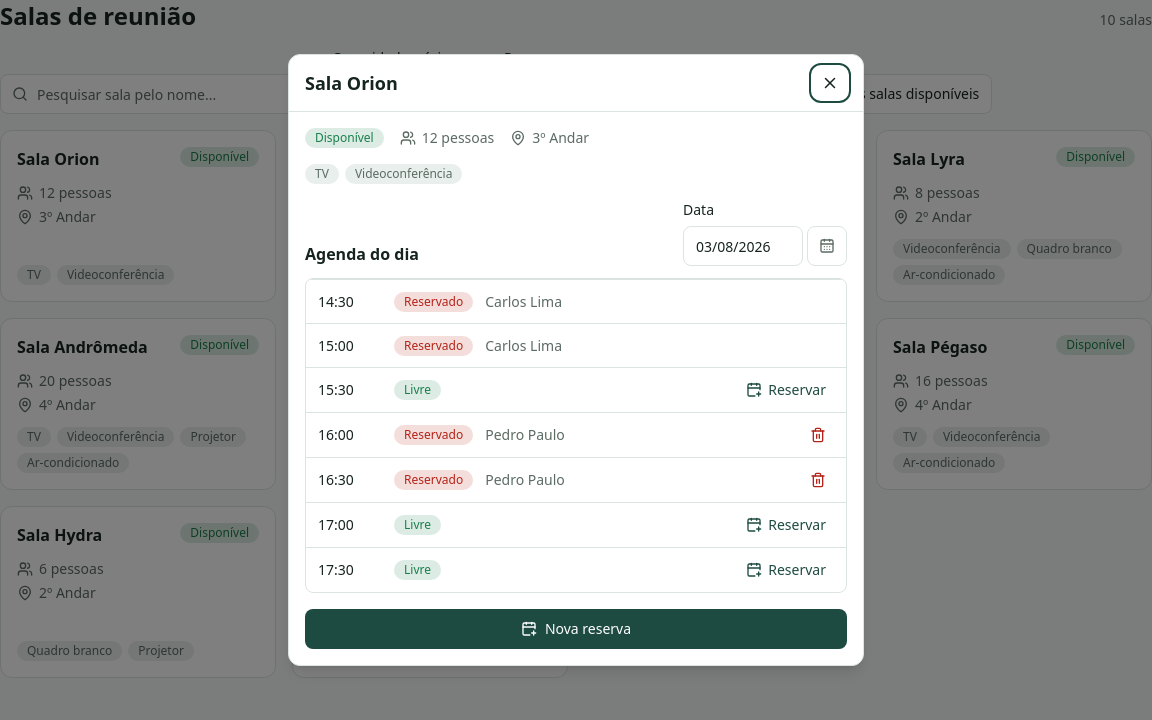
Test: RoomDetails › cancels an owned reservation after confirmation
(page scrolled)
Expected: the text "16:00" is shown, [318, 425, 354, 444]
Click the button named "Cancelar reserva" in the row of "16:00" at {"x": 818, "y": 435}, box [802, 419, 834, 451]
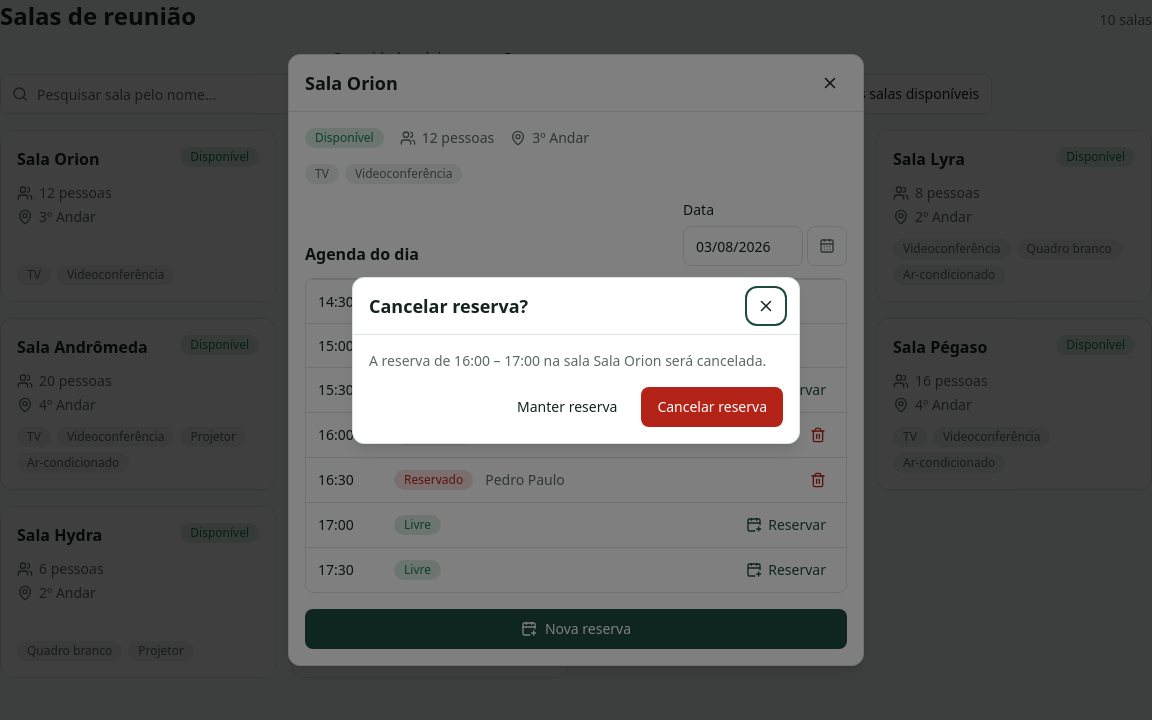
Click the button "Cancelar reserva" at {"x": 712, "y": 406}, box [641, 386, 783, 426]
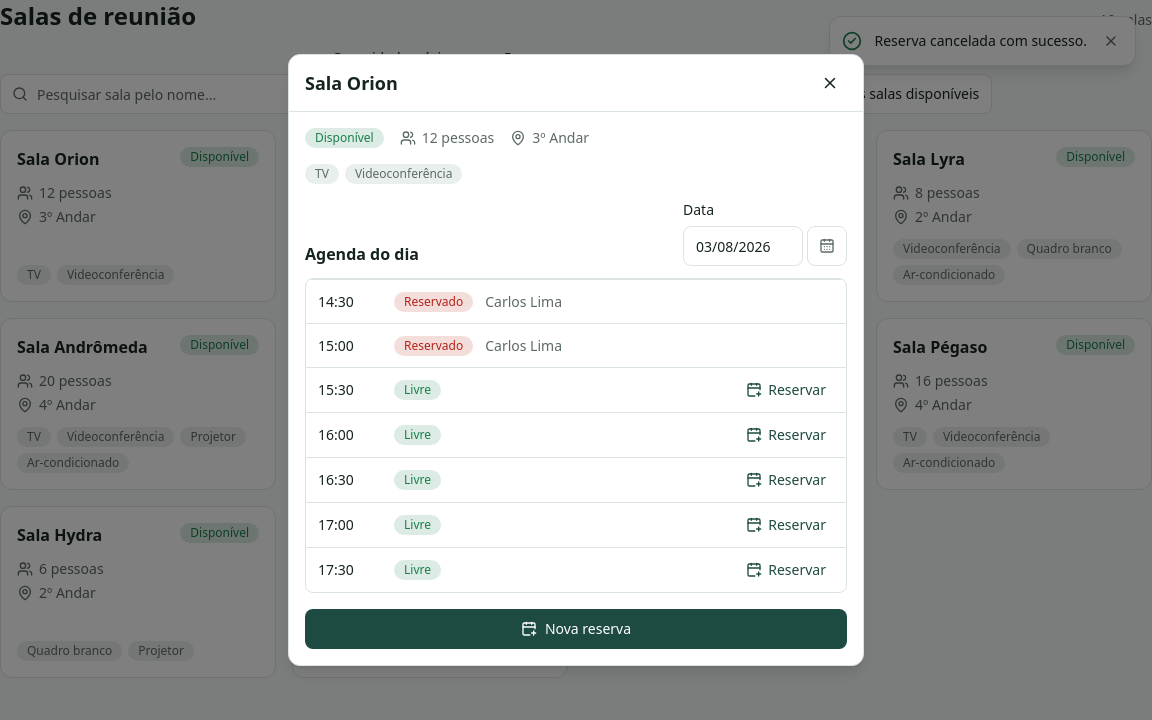
Expected: the text "Reserva cancelada com sucesso." is shown, [874, 31, 1087, 51]
Expected: the text "Livre" next to "16:00" is shown, [404, 426, 431, 443]
